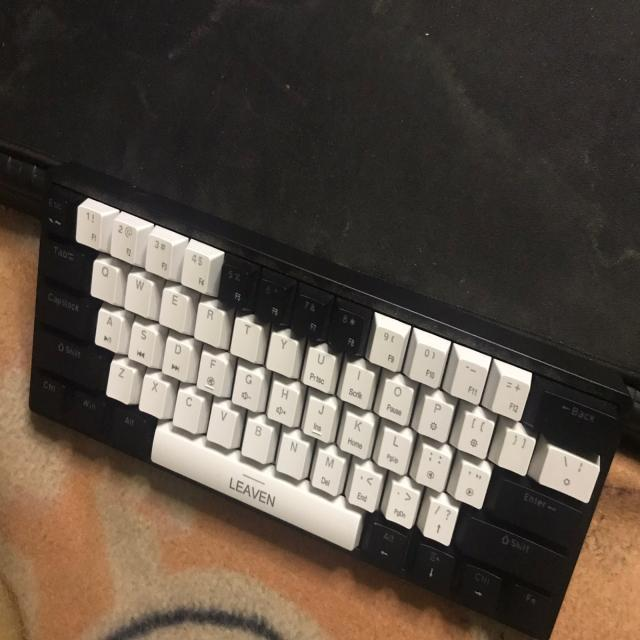-mouse-: (24, 153, 636, 640)
